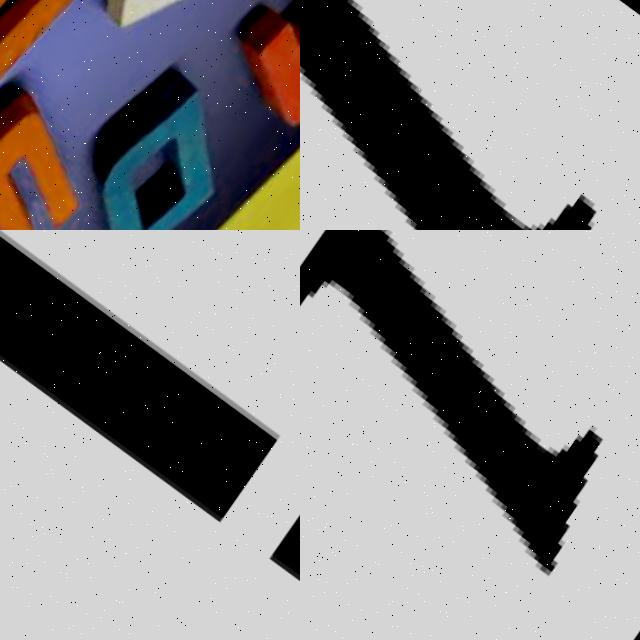A: (220, 0, 300, 135)
D: (50, 46, 256, 230)
E: (0, 0, 144, 107)
I: (300, 230, 640, 640), (0, 230, 300, 626)
R: (300, 0, 640, 230)
W: (0, 52, 115, 230)
Z: (39, 0, 300, 62)
